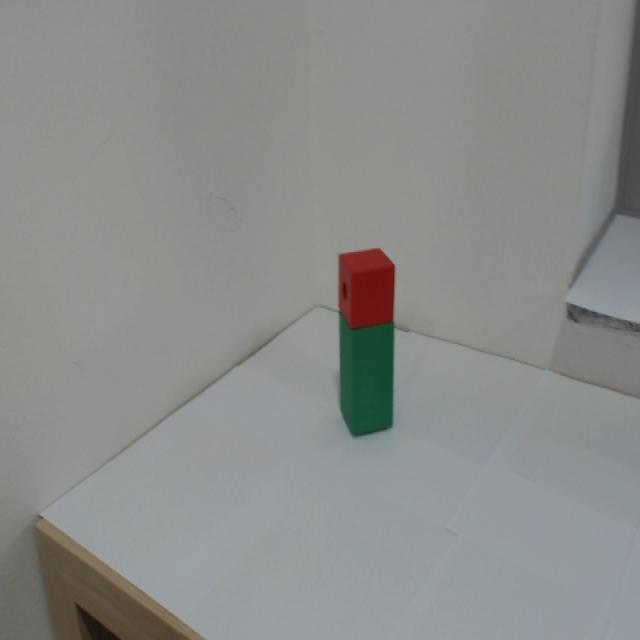cube: (325, 211, 400, 332)
